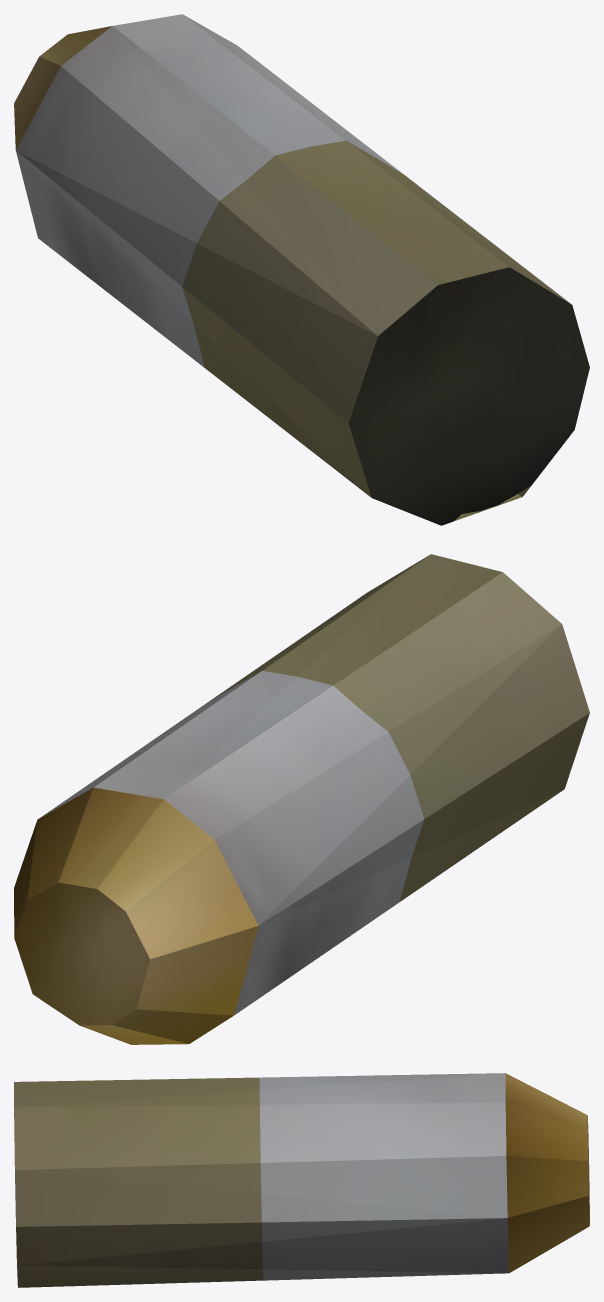
File: GrenadeAmmo_cat.fbx
3 renders of one model, top to bottom at view 1: azimuth 30°, elevation 25°; view 2: azimuth 150°, elevation 25°; view 3: azimuth 270°, elevation 25°, orthographic. The views are drawn at different scales.
Visible parts, largest first — view 1: Circle; view 2: Circle; view 3: Circle.
Part boxes in pixels (x1,y1,x2,y2): Circle: [14, 14, 589, 525]; Circle: [14, 554, 589, 1044]; Circle: [14, 1073, 589, 1287].
Bounding box in the file's own units: 0.4387 × 0.4461 × 1.21.
